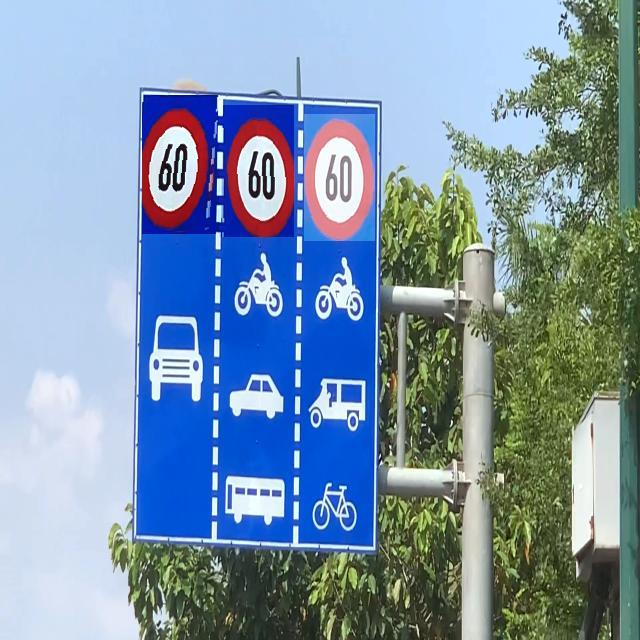P-127: (142, 95, 220, 234), (219, 105, 294, 237), (304, 114, 375, 241)
